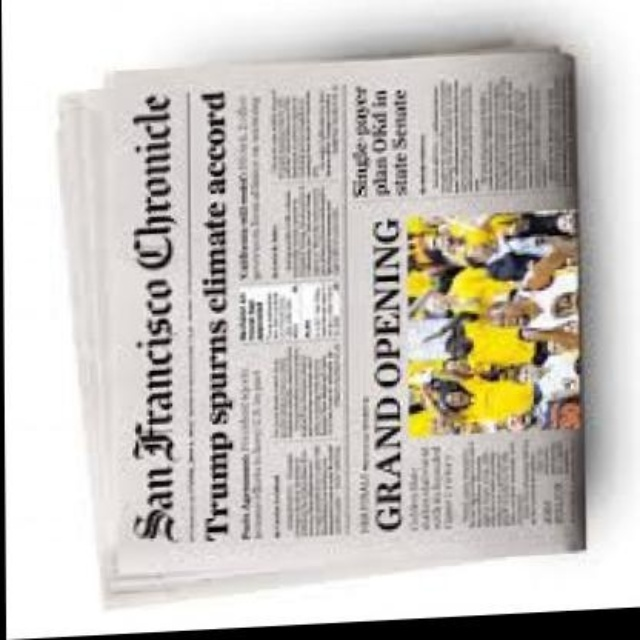trash: (62, 49, 583, 588)
